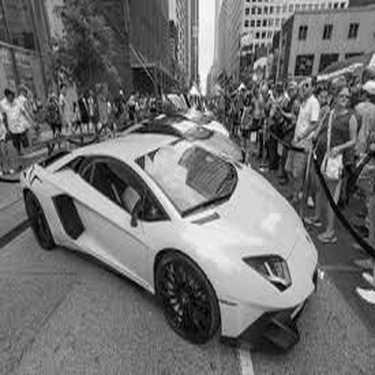car: (7, 109, 338, 349)
